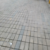others: (4, 6, 42, 47)
